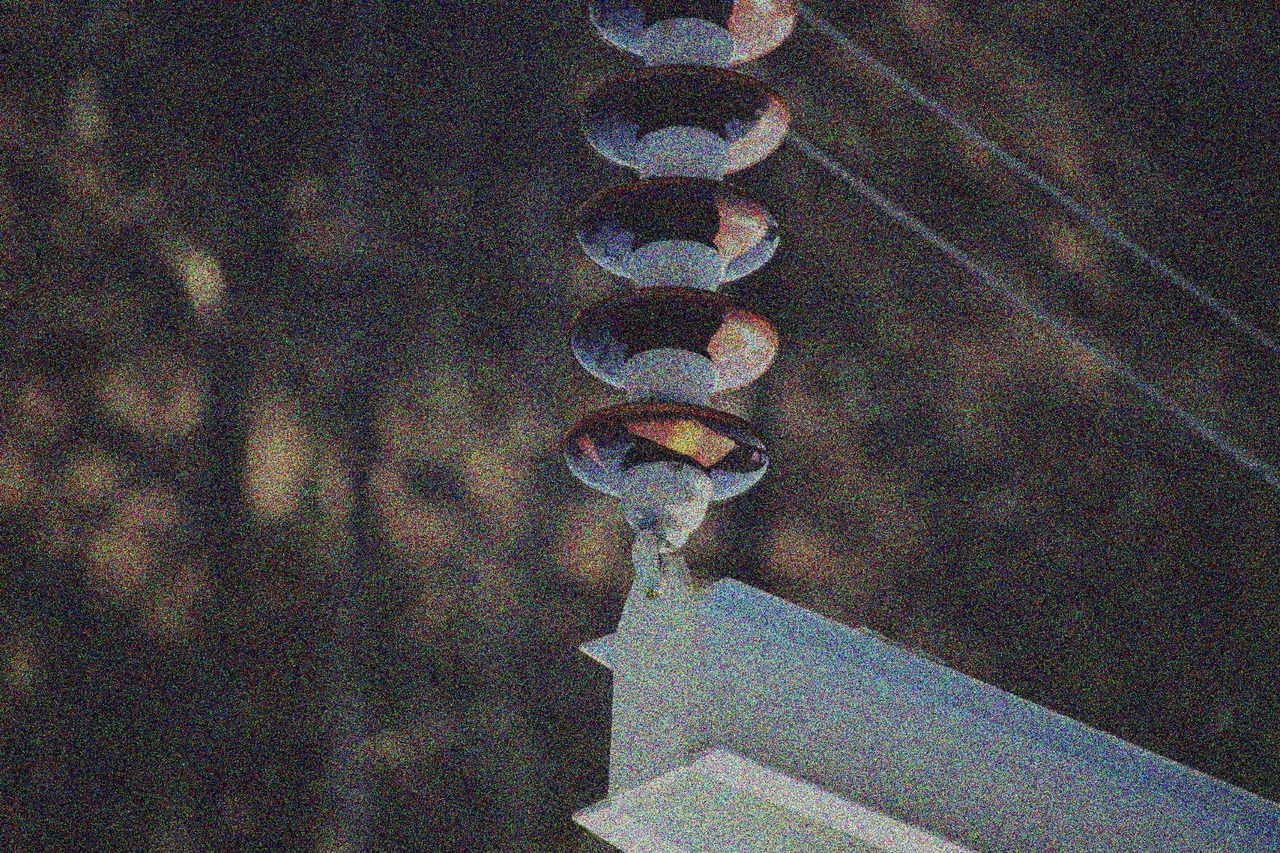Flashover damage: (559, 398, 781, 559)
No issues: (567, 175, 786, 303), (567, 285, 785, 411), (575, 63, 793, 183), (579, 0, 802, 66)
String: (551, 0, 819, 570)
